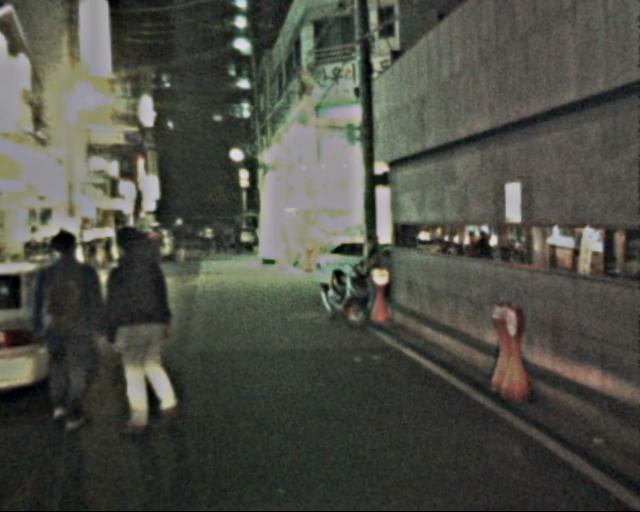person: (25, 222, 121, 437), (98, 225, 184, 431), (196, 219, 249, 259), (167, 215, 190, 265)
